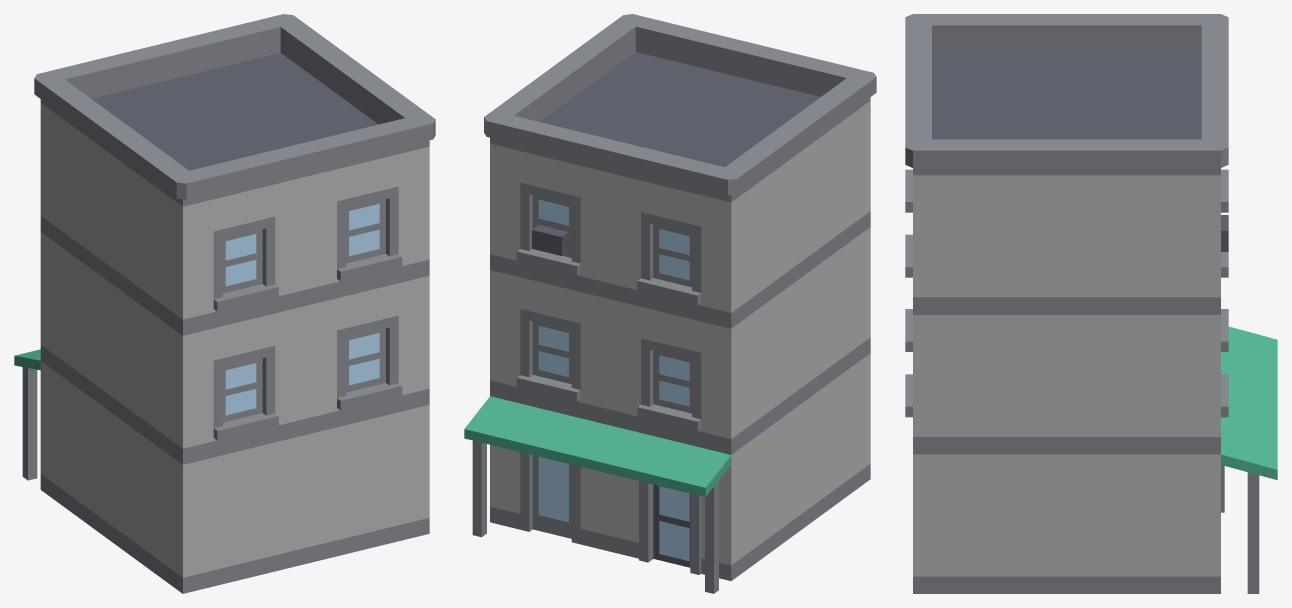
Rendered from small_building.glb.
3 renders of one model, left to right at view 1: azimuth 30°, elevation 25°; view 2: azimuth 150°, elevation 25°; view 3: azimuth 270°, elevation 25°, orthographic. The views are drawn at different scales.
Visible parts, largest first — view 1: small_buildingD_8777f9, small_buildingD_3a70eb, small_buildingD_b4f1bf, small_buildingD_2dbcfa; view 2: small_buildingD_8777f9, small_buildingD_3a70eb, small_buildingD_b4f1bf, small_buildingD_d95096, small_buildingD_2dbcfa; view 3: small_buildingD_8777f9, small_buildingD_3a70eb, small_buildingD_b4f1bf, small_buildingD_d95096.
Part boxes in pixels (box(x1,y1,x2,y2)): small_buildingD_8777f9: box(40, 103, 429, 577); small_buildingD_3a70eb: box(22, 14, 435, 593); small_buildingD_b4f1bf: box(92, 52, 378, 170); small_buildingD_2dbcfa: box(225, 204, 379, 415); small_buildingD_8777f9: box(490, 101, 870, 565); small_buildingD_3a70eb: box(472, 14, 876, 593); small_buildingD_b4f1bf: box(532, 52, 820, 567); small_buildingD_d95096: box(464, 396, 731, 497); small_buildingD_2dbcfa: box(538, 199, 689, 561); small_buildingD_8777f9: box(913, 175, 1220, 576); small_buildingD_3a70eb: box(905, 14, 1259, 593); small_buildingD_b4f1bf: box(932, 53, 1228, 251); small_buildingD_d95096: box(1221, 326, 1277, 480).
Bounding box in the file's own units: 6.56 × 10 × 7.56.
